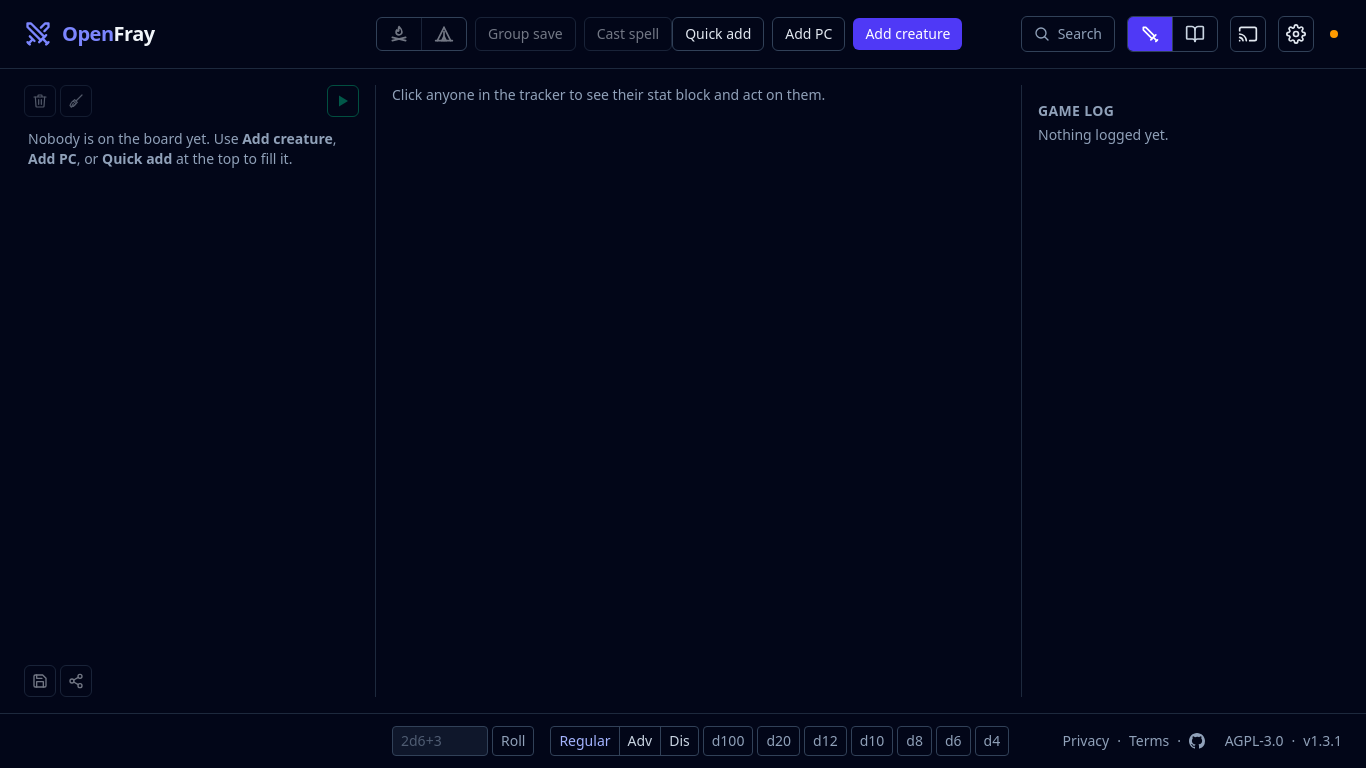
App — keyboard control › keeps the header button usable with search unbound and hides its hint
Click the button with aria-label "Search references".
click(1068, 34)  # box [1021,16,1115,52]
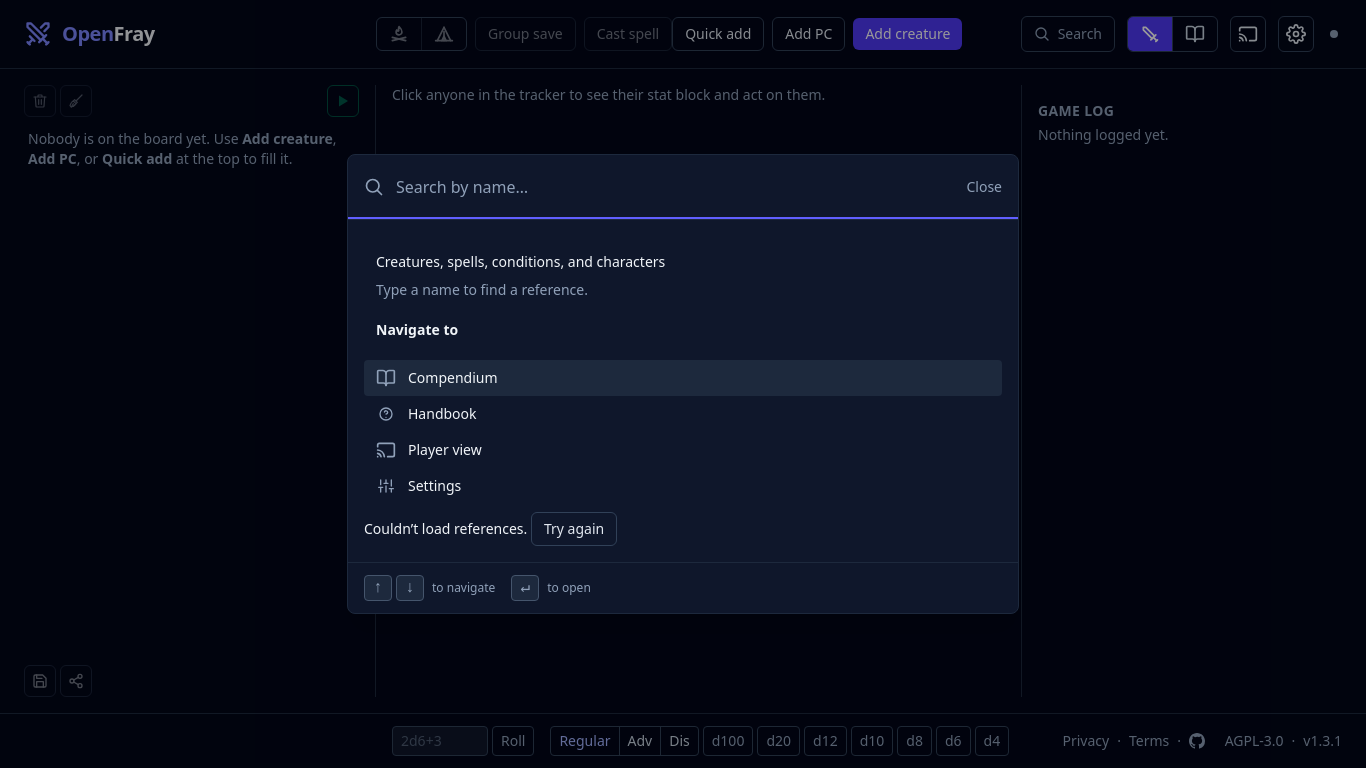
Expected: the dropdown named "Search references" is shown, [396,171,954,203]
